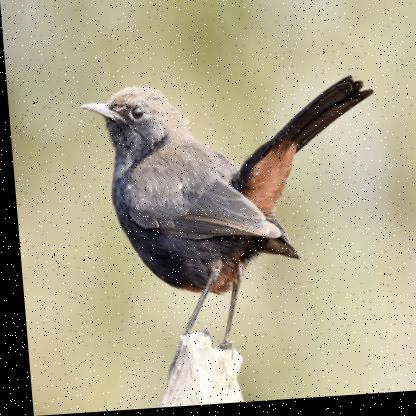Burung: (78, 79, 390, 387)
